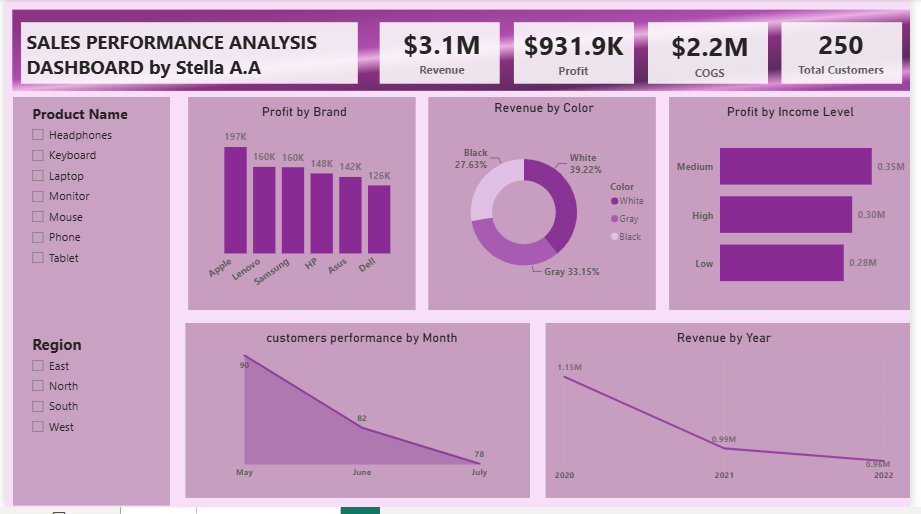

What the dashboard file says about the page in this screenshot:
{"tool":"powerbi","page":{"name":"Page 1","canvas":[1280,720],"ordinal":0},"visuals":[{"type":"card","fields":{"Values":["Sum(Table_1.Revenue)"]},"box":[534.3,36.9,167.2,73.7],"z":0},{"type":"card","fields":{"Values":["Sum(Table_1.Profit)"]},"box":[722.8,32.6,163,85],"z":1000},{"type":"card","fields":{"Values":["Sum(Table_1.COGS)"]},"box":[918.4,36.9,158.7,80.8],"z":2000},{"type":"columnChart","title":" Profit by Brand","fields":{"Category":["Table 1 (Products).Brand"],"Y":["Sum(Table_1.Profit)"]},"box":[279.2,148.8,287.7,277.8],"z":3000},{"type":"donutChart","title":"Revenue by Color","fields":{"Y":["Sum(Table_1.Revenue)"],"Category":["Table 1 (Products).Color"]},"box":[606.6,143.1,311.8,296.2],"z":4000},{"type":"lineChart","title":"Revenue by Year","fields":{"Y":["Sum(Table_1.Revenue)"],"Category":["Table 2 (Customers).SignupDate.Variation.Date Hierarchy.Year"]},"box":[772.4,469.1,490.4,223.9],"z":5000},{"type":"areaChart","title":" customers performance by Month","fields":{"Category":["Table 2 (Customers).SignupDate.Variation.Date Hierarchy.Month"],"Y":["Table 2 (Customers).Total Customers"]},"box":[266.5,469.1,476.2,219.7],"z":6000},{"type":"barChart","title":"Profit by Income Level","fields":{"Category":["Table 2 (Customers).IncomeLevel"],"Y":["Sum(Table_1.Profit)"]},"box":[943.9,148.8,335.9,286.3],"z":7000},{"type":"slicer","fields":{"Values":["Table 1 (Products).ProductName"]},"box":[24.1,143.1,204.1,296.2],"z":8000},{"type":"slicer","fields":{"Values":["Table 2 (Customers).Region"]},"box":[24.1,469.1,204.1,204.1],"z":9000},{"type":"textbox","box":[24.1,36.9,467.7,87.9],"z":10000},{"type":"card","fields":{"Values":["Table 2 (Customers).all Customers"]},"box":[1104.1,36.9,158.7,73.7],"z":11000}]}

Visuals, with their boxes in screenshot pixels (x1, y1, x2, y2), scaled from the page's 1280x720 canvas onto the 921x514 screenshot:
card - Sum(Table_1.Revenue): {"x1": 384, "y1": 26, "x2": 505, "y2": 79}
card - Sum(Table_1.Profit): {"x1": 520, "y1": 23, "x2": 637, "y2": 84}
card - Sum(Table_1.COGS): {"x1": 661, "y1": 26, "x2": 775, "y2": 84}
" Profit by Brand" columnChart: {"x1": 201, "y1": 106, "x2": 408, "y2": 305}
"Revenue by Color" donutChart: {"x1": 436, "y1": 102, "x2": 661, "y2": 314}
"Revenue by Year" lineChart: {"x1": 556, "y1": 335, "x2": 909, "y2": 495}
" customers performance by Month" areaChart: {"x1": 192, "y1": 335, "x2": 534, "y2": 492}
"Profit by Income Level" barChart: {"x1": 679, "y1": 106, "x2": 920, "y2": 311}
slicer - Table 1 (Products).ProductName: {"x1": 17, "y1": 102, "x2": 164, "y2": 314}
slicer - Table 2 (Customers).Region: {"x1": 17, "y1": 335, "x2": 164, "y2": 481}
textbox: {"x1": 17, "y1": 26, "x2": 354, "y2": 89}
card - Table 2 (Customers).all Customers: {"x1": 794, "y1": 26, "x2": 909, "y2": 79}
